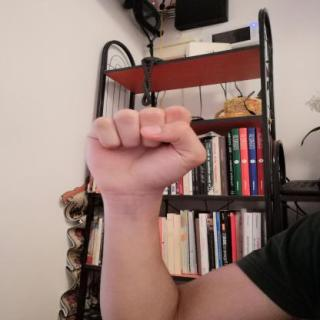SAD: (73, 95, 219, 208)
